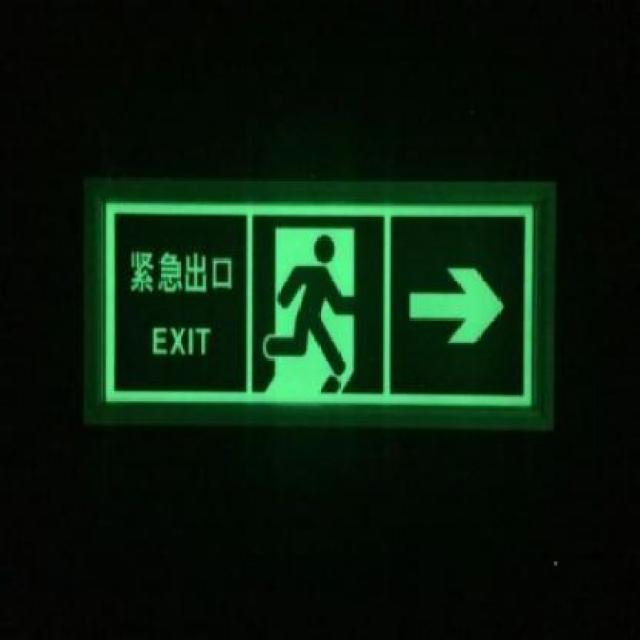exit_sign: (83, 165, 558, 449)
